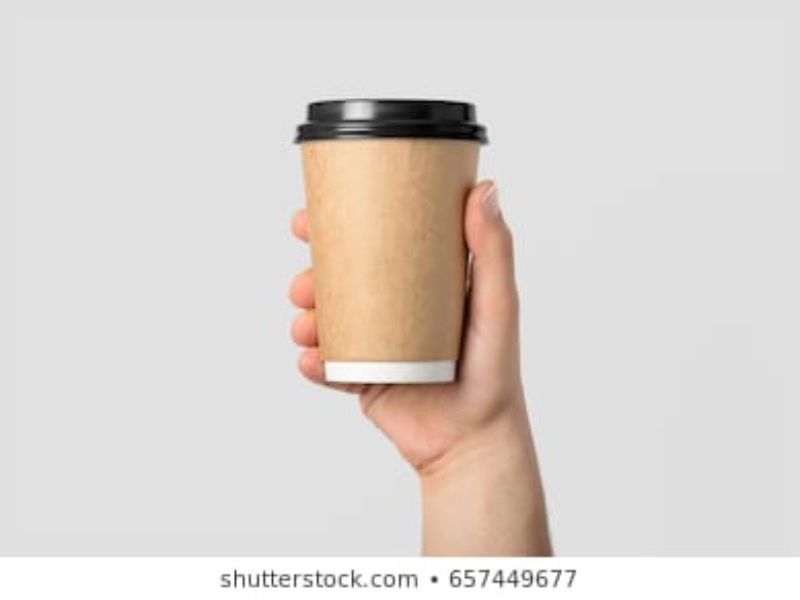coffee-lid: (291, 94, 493, 145)
plastic-cup: (287, 94, 485, 388)
